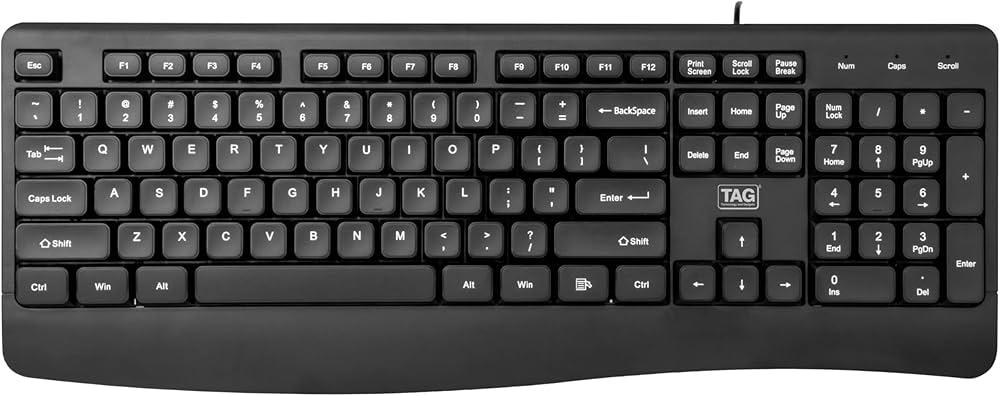keyboard: (0, 13, 1000, 396)
